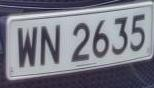2: (68, 18, 93, 64)
3: (111, 13, 129, 58)
5: (129, 11, 148, 55)
6: (90, 15, 111, 61)
N: (40, 22, 64, 72)
W: (14, 22, 40, 74)
